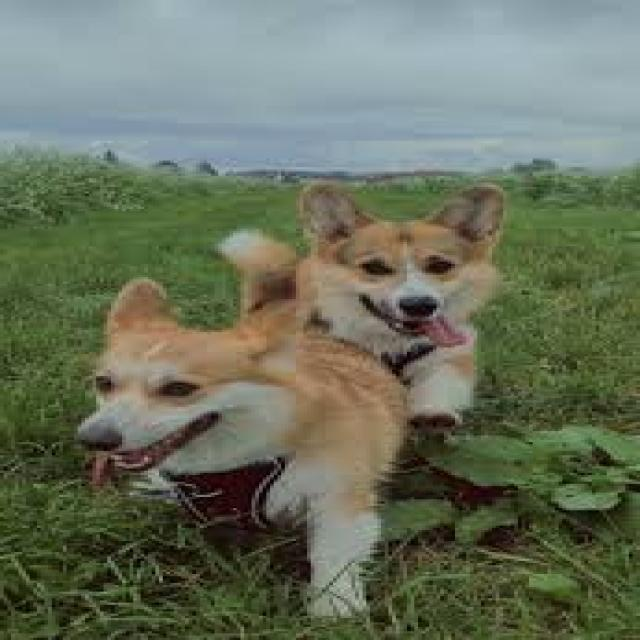CORGI: (79, 280, 452, 616), (227, 178, 536, 438)
